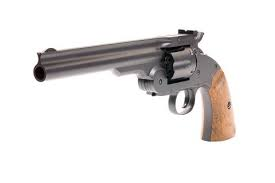gun: (32, 27, 240, 145)
